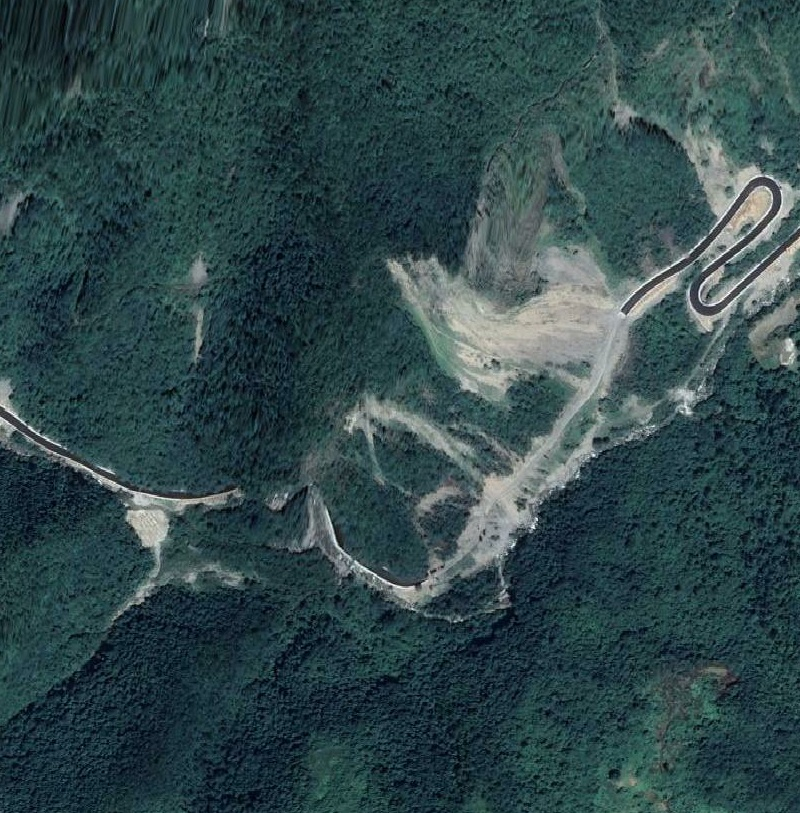slope: (380, 248, 612, 410), (455, 426, 601, 567), (343, 388, 480, 481), (681, 121, 757, 214), (121, 502, 171, 563)
